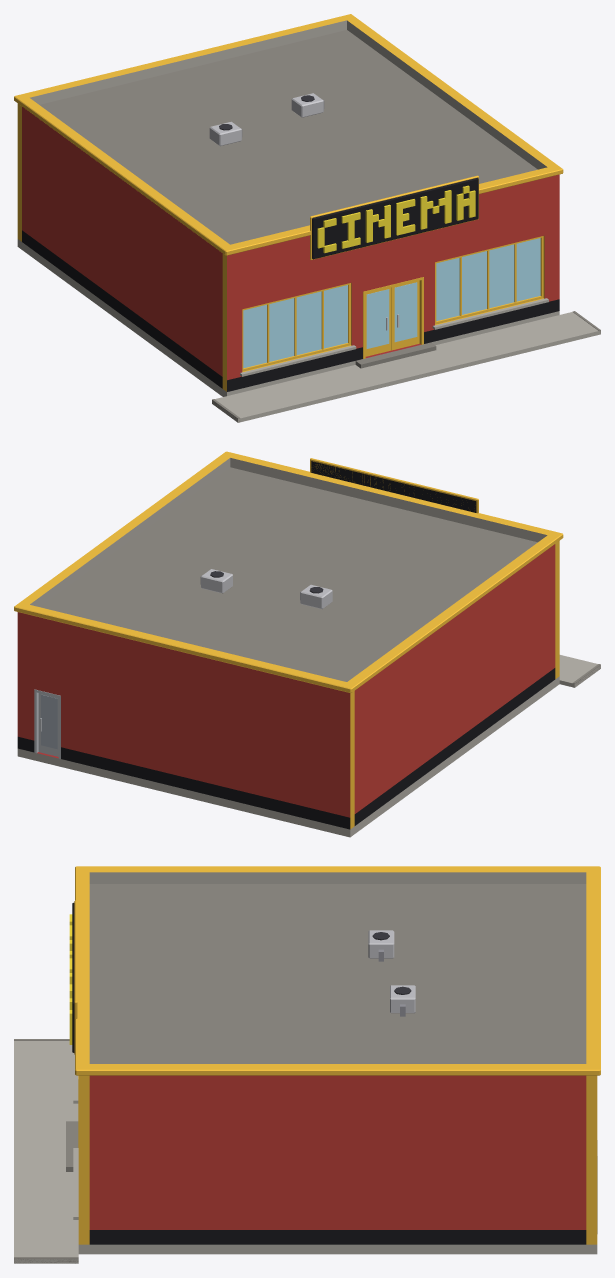
Rendered from MovieTheater.fbx.
The picture shows the model from 3 angles, top to bottom: view 1: azimuth 30°, elevation 25°; view 2: azimuth 150°, elevation 25°; view 3: azimuth 270°, elevation 25°; orthographic projection. The views are drawn at different scales.
Visible parts, largest first — view 1: MovieTheater, MovieTheater_Roof, MovieTheater_Glass, MovieTheater_Sign, MovieTheater_DoorR, MovieTheater_DoorL; view 2: MovieTheater, MovieTheater_Roof, MovieTheater_Sign, MovieTheater_BackDoor; view 3: MovieTheater, MovieTheater_Roof, MovieTheater_Sign.
Part boxes in pixels (x1,y1,x2,y2): MovieTheater: (14, 14, 600, 422); MovieTheater_Roof: (40, 30, 537, 244); MovieTheater_Glass: (243, 238, 540, 368); MovieTheater_Sign: (310, 175, 478, 260); MovieTheater_DoorR: (391, 280, 419, 350); MovieTheater_DoorL: (365, 287, 391, 356); MovieTheater: (14, 451, 600, 837); MovieTheater_Roof: (40, 467, 537, 681); MovieTheater_Sign: (310, 458, 478, 513); MovieTheater_BackDoor: (38, 693, 58, 756); MovieTheater: (14, 866, 600, 1263); MovieTheater_Roof: (89, 884, 586, 1063); MovieTheater_Sign: (69, 900, 77, 1054).
Bounding box in the file's own units: 48 × 20.75 × 54.35.
Materials: 1 (1 with a texture image).
